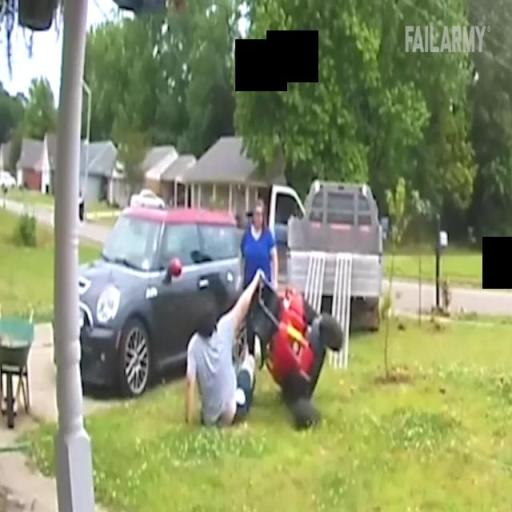Fall: (182, 267, 268, 430)
